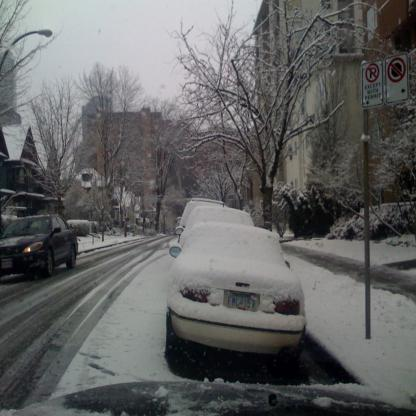Car: (167, 222, 306, 373), (0, 381, 415, 415), (1, 215, 79, 277), (176, 205, 258, 245), (178, 199, 226, 226), (191, 198, 226, 204)
